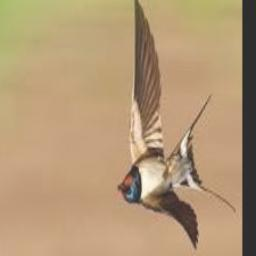Swallow: (116, 0, 236, 250)
